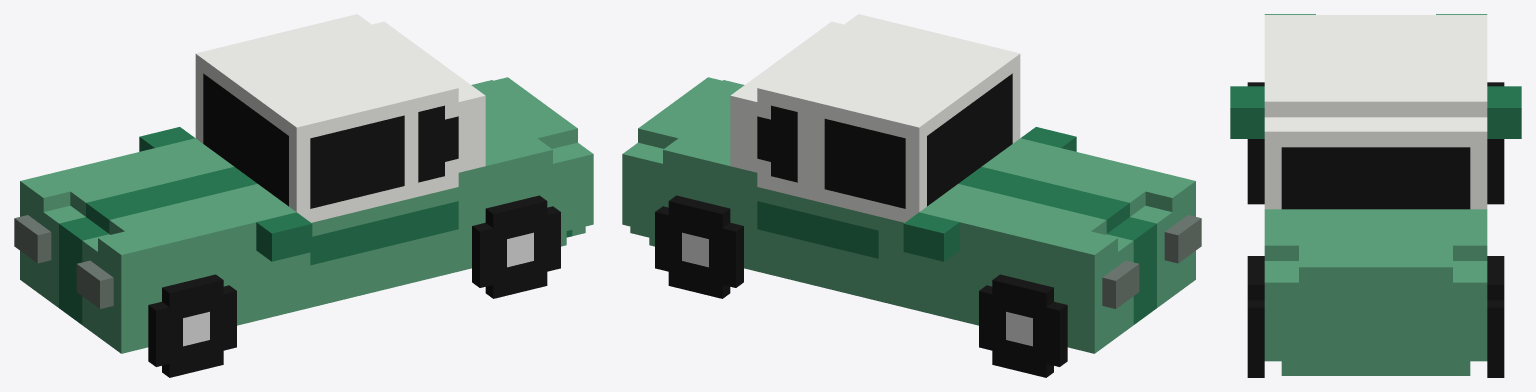
The model's file is car-green.obj.
The picture shows the model from 3 angles, left to right: view 1: azimuth 30°, elevation 25°; view 2: azimuth 150°, elevation 25°; view 3: azimuth 270°, elevation 25°; orthographic projection. The views are drawn at different scales.
Size of the model in its own units: 36 by 15 by 17.
1 material, 1 textured.
